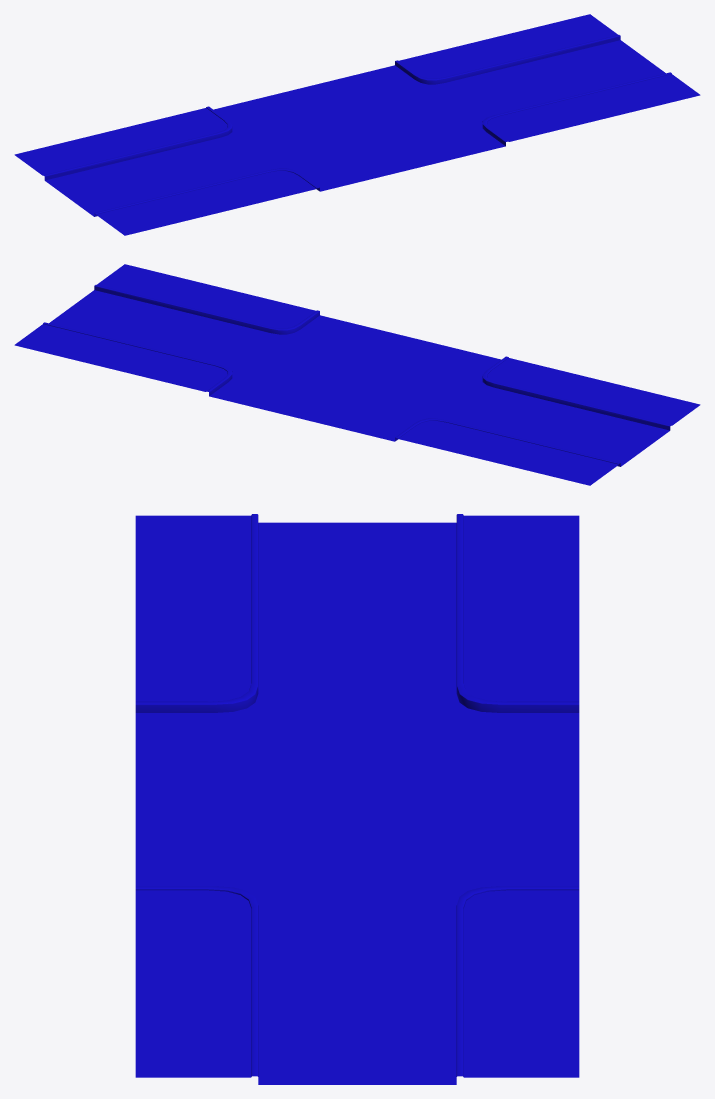
The picture shows the model from 3 angles, top to bottom: view 1: azimuth 30°, elevation 25°; view 2: azimuth 150°, elevation 25°; view 3: azimuth 270°, elevation 25°; orthographic projection. The views are drawn at different scales.
Visible parts, largest first — view 1: R_05; view 2: R_05; view 3: R_05.
Boxes of the visible parts, x1,y1,x2,y2 form: R_05: [14, 14, 700, 235]; R_05: [14, 264, 700, 485]; R_05: [135, 514, 579, 1084].
Size of the model in its own units: 3000 by 21.13 by 1000.
